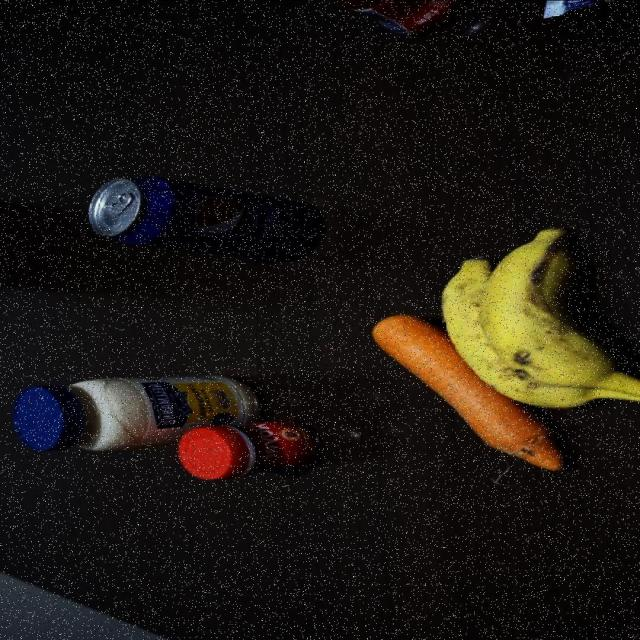Banana: (434, 239, 640, 408)
Carrot: (362, 322, 558, 470)
Mayonnaise: (17, 370, 260, 441)
SodaCan: (85, 168, 324, 264)
Yeast: (177, 423, 324, 478)
